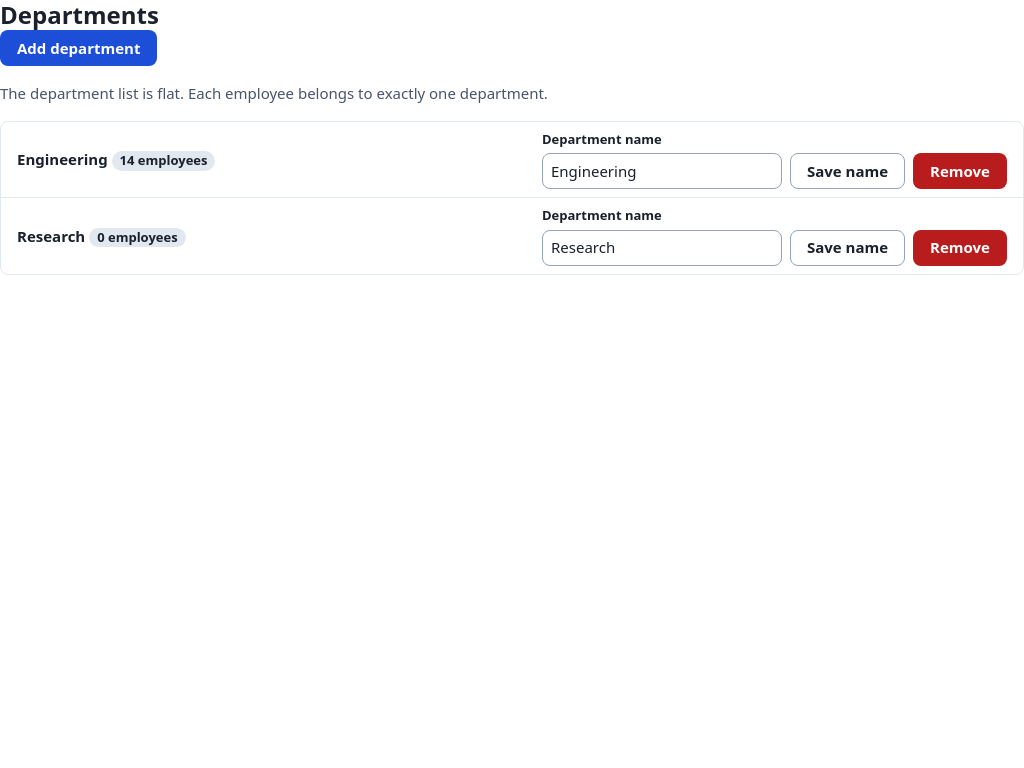
Test: DepartmentsPage › adds a department, closes the modal and toasts (AC6)
Check: the text "14 employees" is shown, box [112,151,216,170]
Click the button "Add department" at (79, 48), box [0,30,157,66]
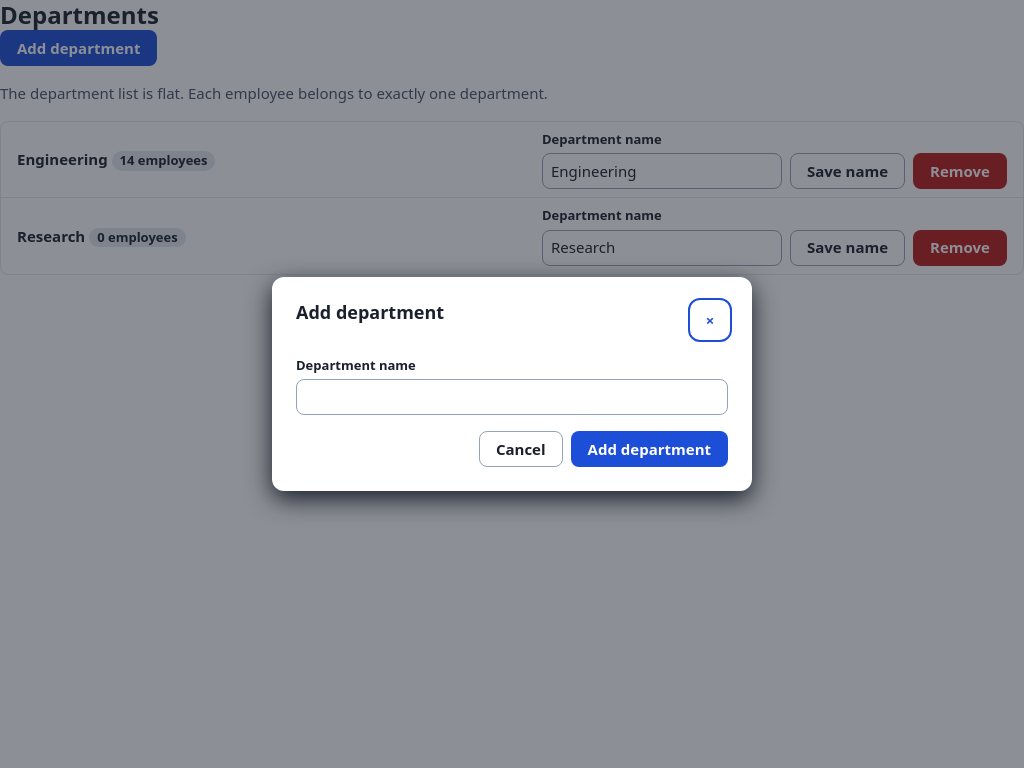
Type "Legal" into the field labelled "Department name" at (512, 397), box [296,379,728,415]
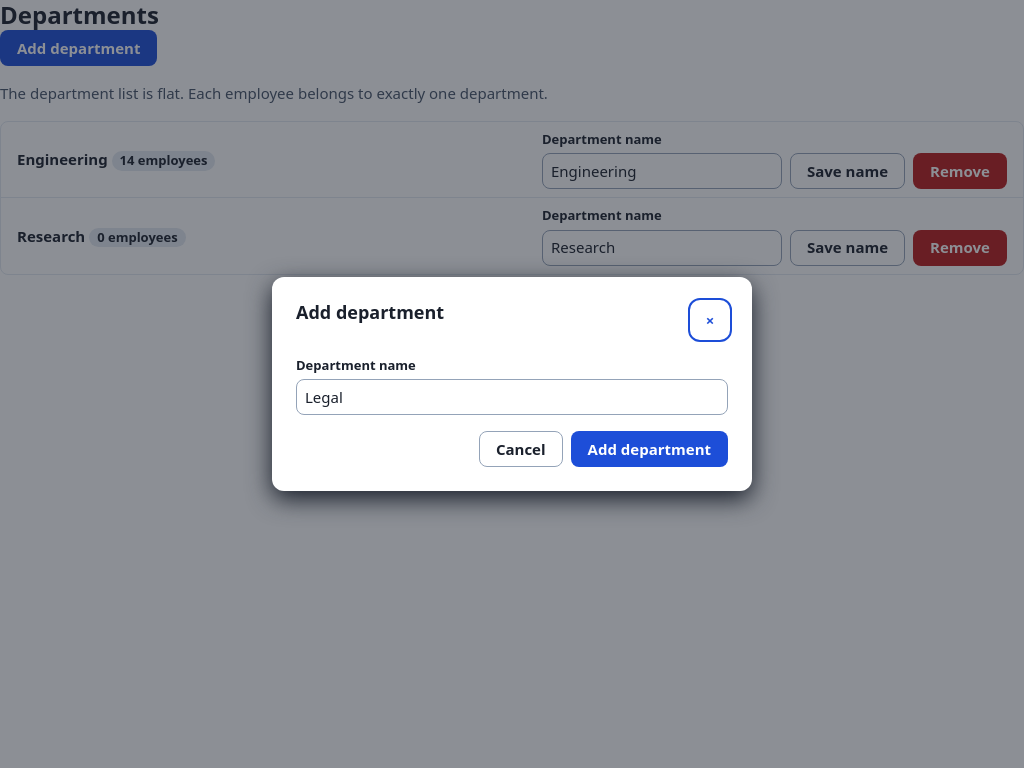
Click the button "Add department" at (649, 449), box [571,431,728,467]
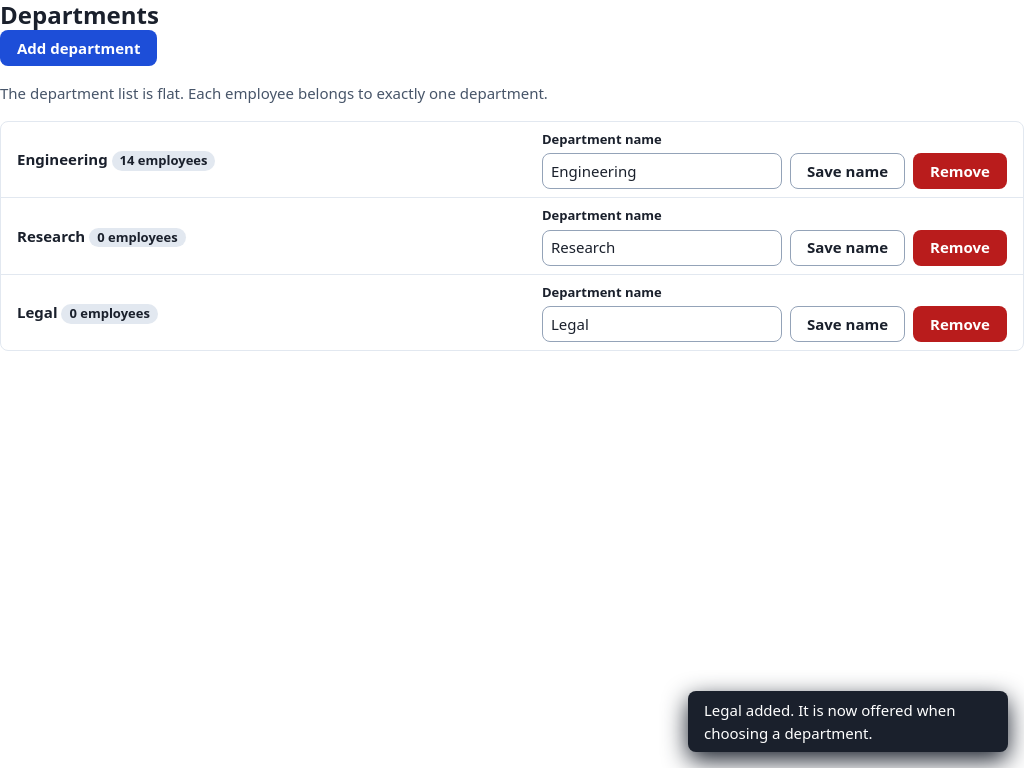
Check: the text "Legal added. It is now offered when choosing a department." is shown, box [688,691,1008,752]
Check: the dialog is gone
Check: the list item "Legal" is shown, box [17,302,58,322]
